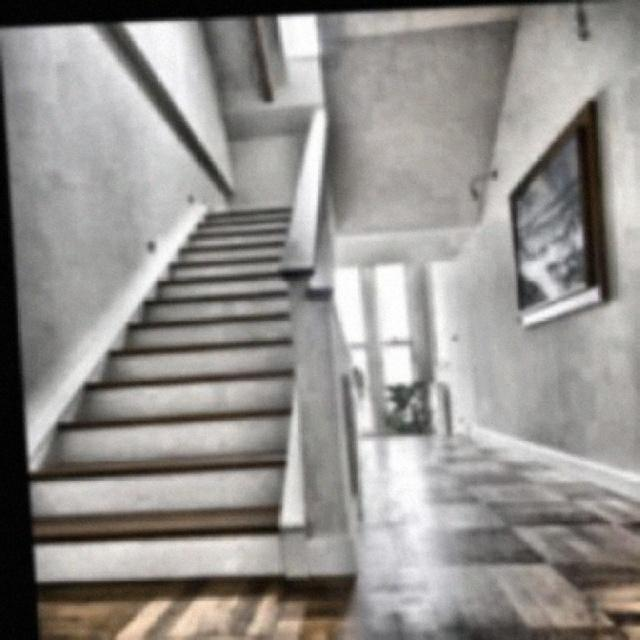stair: (8, 150, 342, 532)
